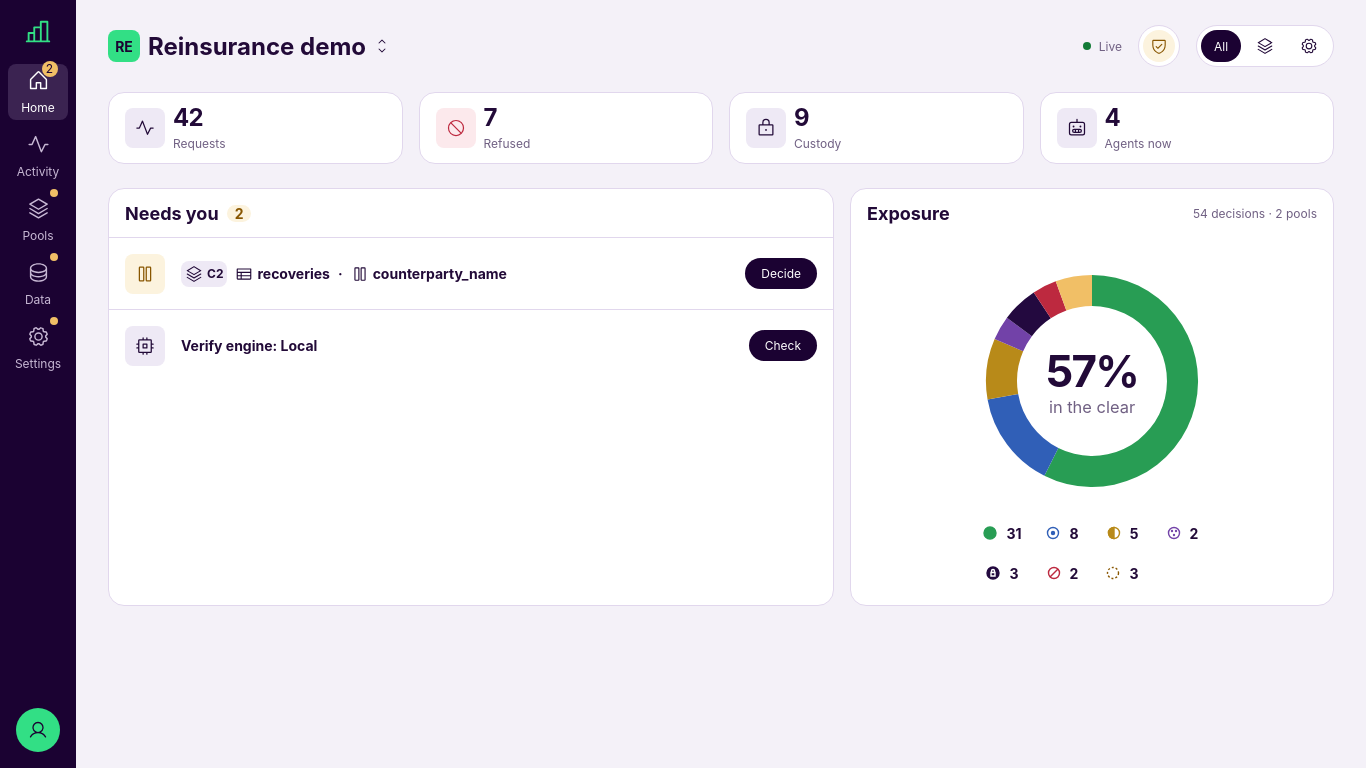
Scenario: Home contract › uses summary numbers, stats presence and actual needs; hides unavailable strip
Expected: the button with aria-label "9 custody grants, today UTC" is shown, [729,92,1024,164]
Expected: the button with aria-label "4 agents connected now" is shown, [1040,92,1334,164]
Click the text "counterparty_name" at [440, 274], box [373,265,507,282]
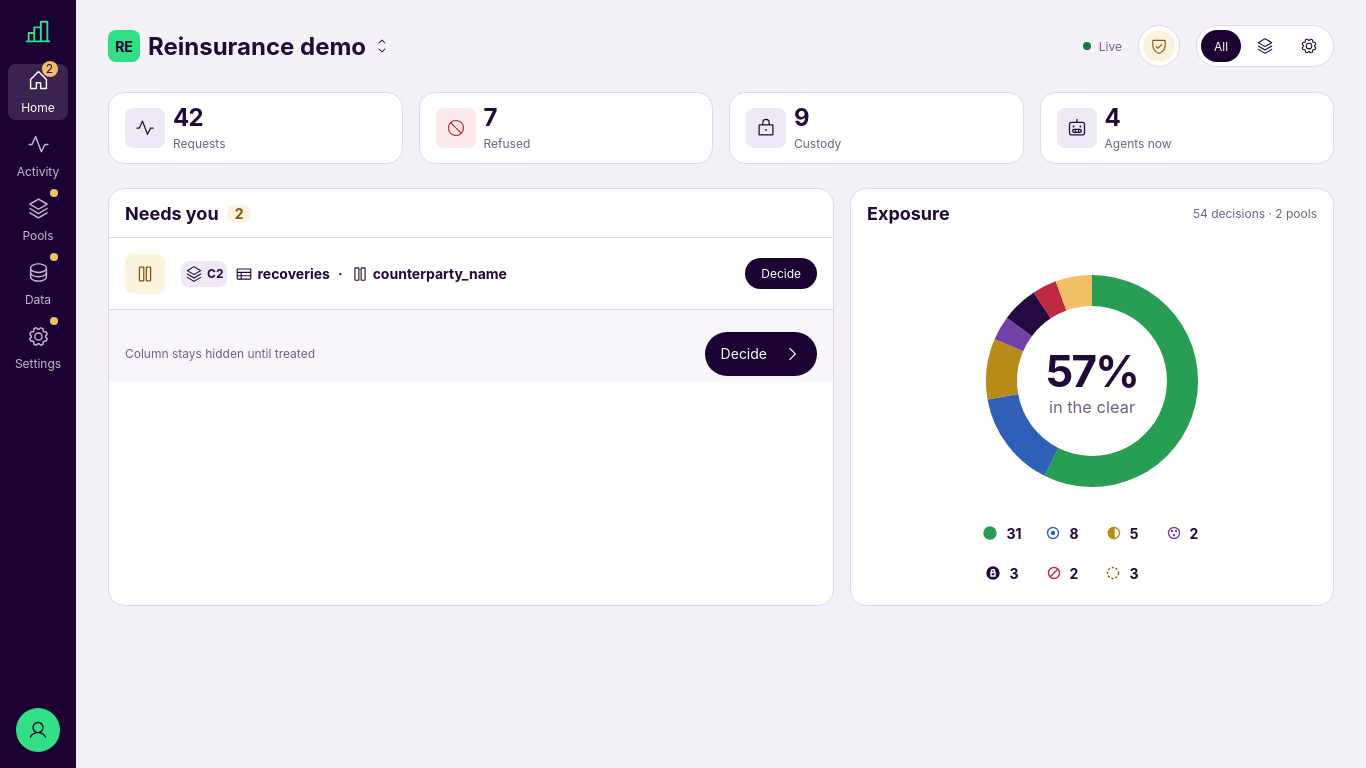
Expected: the button "C2 recoveries · counterparty_name Decide" is shown, [109,237,833,309]
Expected: the text "Column stays hidden until treated" is shown, [125,346,315,361]
